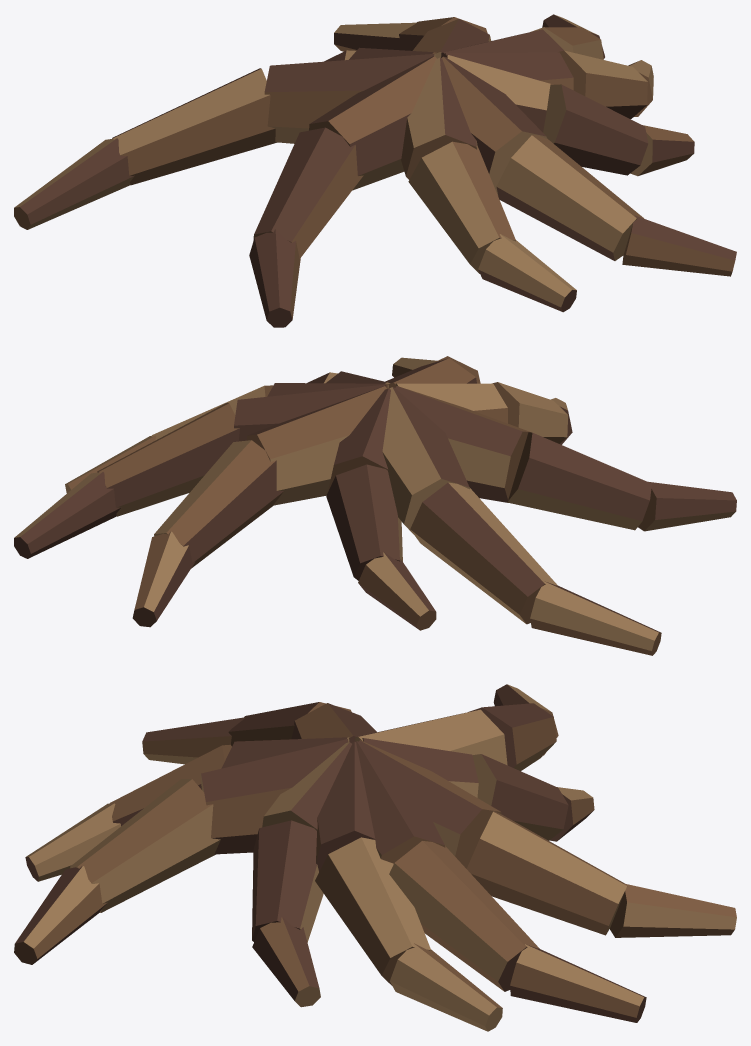
File: root_cluster.glb
The picture shows the model from 3 angles, top to bottom: view 1: azimuth 30°, elevation 25°; view 2: azimuth 150°, elevation 25°; view 3: azimuth 270°, elevation 25°; orthographic projection. The views are drawn at different scales.
Visible parts, largest first — view 1: root_cluster; view 2: root_cluster; view 3: root_cluster.
Boxes of the visible parts, left/top/right/bottom form: root_cluster: left=14, top=14, right=736, bottom=327; root_cluster: left=14, top=356, right=736, bottom=655; root_cluster: left=14, top=684, right=736, bottom=1031.
Bounding box in the file's own units: 2.16 × 0.4696 × 2.02.
